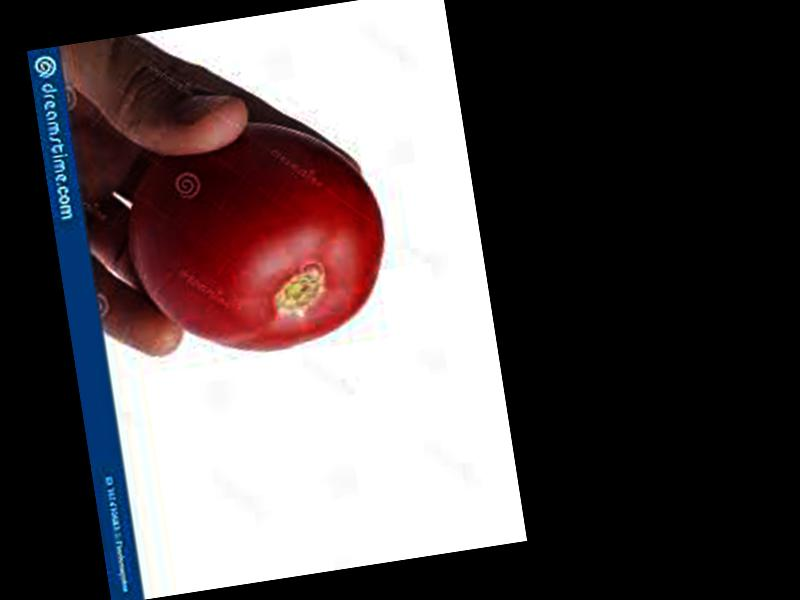Tomato: (114, 104, 398, 368)
